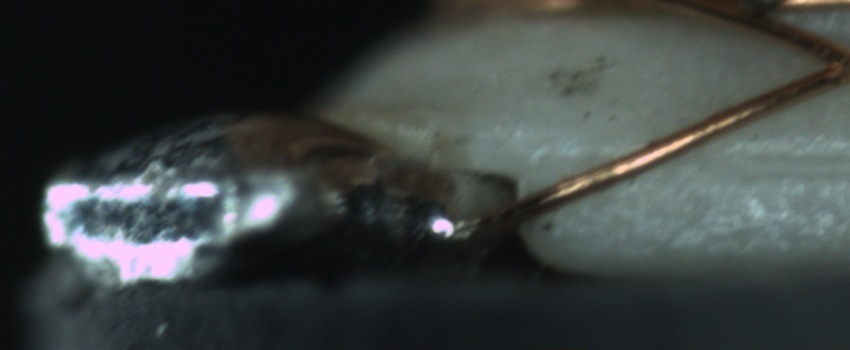CL: (799, 27, 849, 92)
DL: (610, 124, 847, 192)
